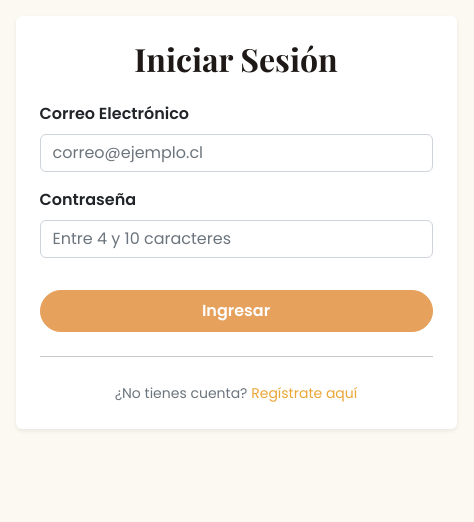
Scenario: Login Component Unit Tests › debe mostrar mensaje de error si se envía el formulario vacío
Step 1. Click the button "Ingresar" → (236, 311), box [40,290,432,332]
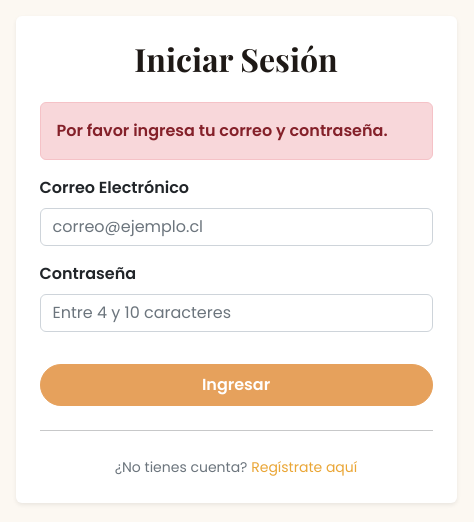
Expected: the text "Por favor ingresa tu correo y contraseña." is shown, [40,102,432,160]
